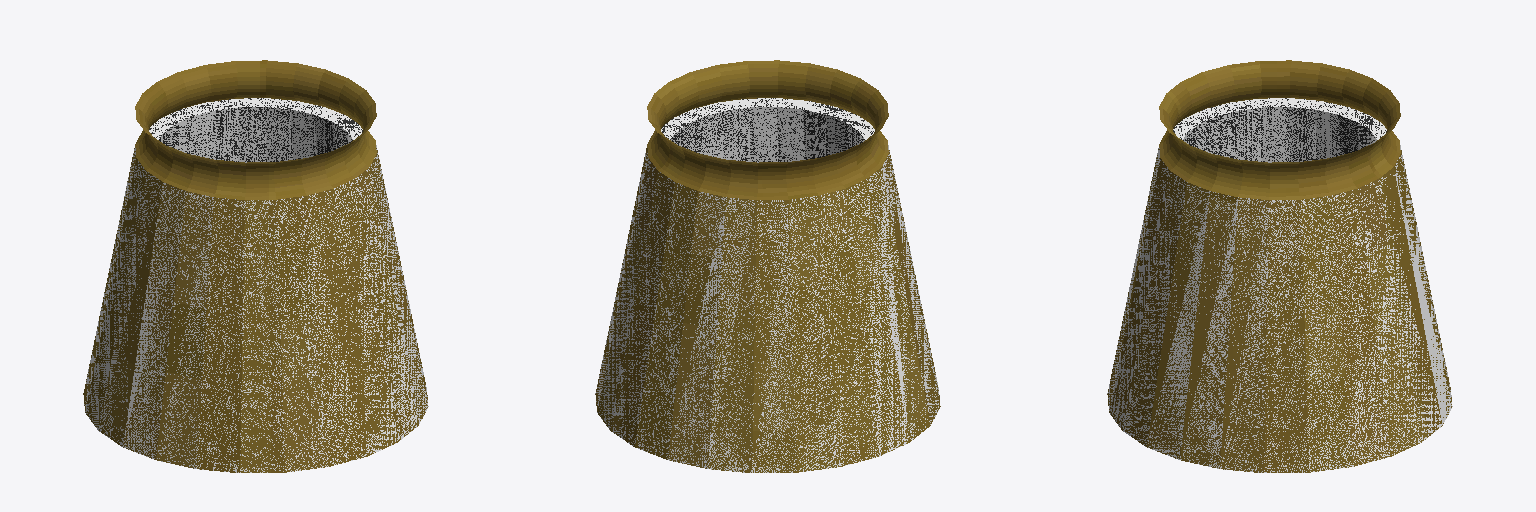
3 renders of one model, left to right at view 1: azimuth 30°, elevation 25°; view 2: azimuth 150°, elevation 25°; view 3: azimuth 270°, elevation 25°, orthographic.
Parts seen in each view (by area): view 1: mesh27/mesh27-geometry#mesh27-geometry; view 2: mesh27/mesh27-geometry#mesh27-geometry; view 3: mesh27/mesh27-geometry#mesh27-geometry.
Boxes of the visible parts, <box> form: mesh27/mesh27-geometry#mesh27-geometry: <box>83,60,428,472</box>; mesh27/mesh27-geometry#mesh27-geometry: <box>595,60,940,472</box>; mesh27/mesh27-geometry#mesh27-geometry: <box>1107,60,1452,472</box>.
Size of the model in its own units: 0.0299 by 0.0276 by 0.0299.
Materials: 4 (1 with a texture image).